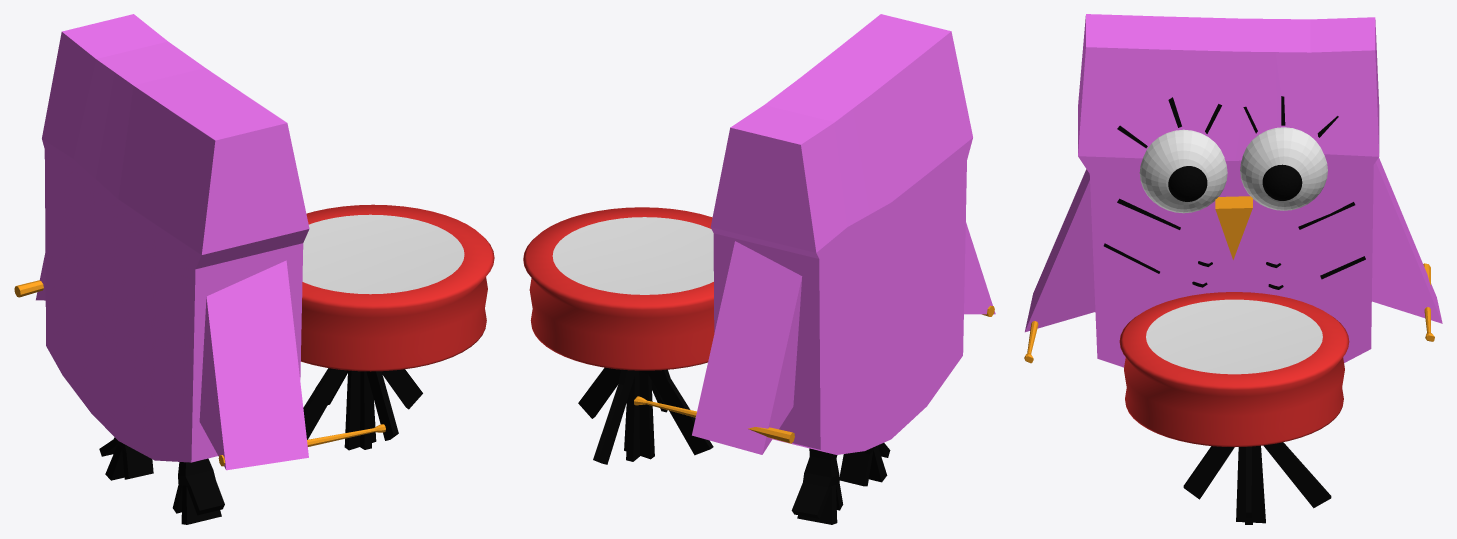
Rendered from sova.fbx.
The picture shows the model from 3 angles, left to right: view 1: azimuth 30°, elevation 25°; view 2: azimuth 150°, elevation 25°; view 3: azimuth 270°, elevation 25°; orthographic projection. The views are drawn at different scales.
Visible parts, largest first — view 1: Cube, Torus, Cube.002, Cube.015, Cube.006, Cube.014, Cube.007, Cylinder; view 2: Cube, Torus, Cube.003, Cube.015, Cube.007, Cube.014, Cube.006, Cube.002, Cylinder.001; view 3: Cube, Torus, Cube.003, Cube.002, Sphere, Sphere.001, Cube.014, Cube.001, Sphere.002, Sphere.003, Cube.015.
Boxes of the visible parts, left/top/right/bottom form: Cube: left=42, top=14, right=309, bottom=462; Torus: left=301, top=204, right=494, bottom=371; Cube.002: left=199, top=260, right=308, bottom=470; Cube.015: left=303, top=368, right=422, bottom=450; Cube.006: left=172, top=458, right=224, bottom=524; Cube.014: left=315, top=370, right=398, bottom=449; Cube.007: left=99, top=437, right=153, bottom=480; Cylinder: left=218, top=424, right=385, bottom=466; Cube: left=710, top=14, right=972, bottom=454; Torus: left=523, top=207, right=714, bottom=370; Cube.003: left=692, top=241, right=802, bottom=454; Cube.015: left=578, top=367, right=713, bottom=459; Cube.007: left=791, top=448, right=843, bottom=524; Cube.014: left=593, top=369, right=667, bottom=464; Cube.006: left=839, top=443, right=890, bottom=486; Cube.002: left=964, top=221, right=995, bottom=314; Cylinder.001: left=634, top=396, right=794, bottom=443; Cube: left=1078, top=14, right=1379, bottom=367; Torus: left=1119, top=292, right=1349, bottom=447; Cube.003: left=1372, top=158, right=1442, bottom=323; Cube.002: left=1025, top=169, right=1095, bottom=332; Sphere: left=1139, top=129, right=1227, bottom=213; Sphere.001: left=1240, top=127, right=1327, bottom=210; Cube.014: left=1183, top=442, right=1331, bottom=523; Cube.001: left=1215, top=196, right=1252, bottom=259; Sphere.002: left=1262, top=164, right=1302, bottom=200; Sphere.003: left=1168, top=166, right=1207, bottom=201; Cube.015: left=1245, top=446, right=1252, bottom=524.
Bounding box in the file's own units: 314 × 356 × 336.
